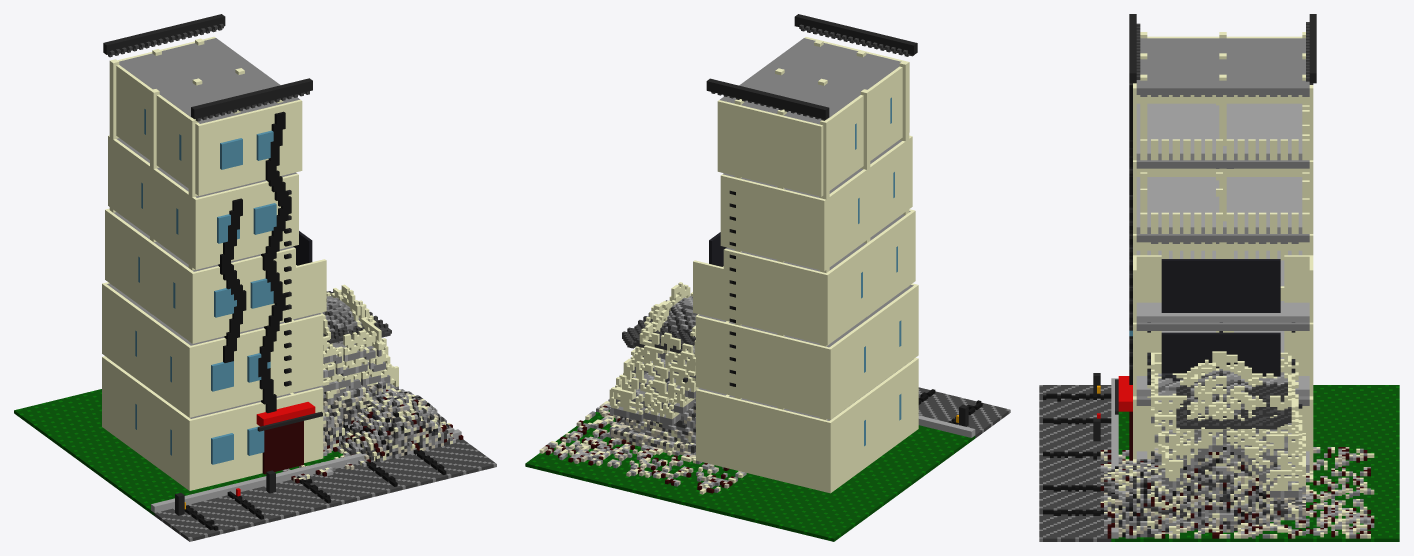
Rendered from yıkıkEV.obj.
3 views of the same model, side by side, from view 1: azimuth 30°, elevation 25°; view 2: azimuth 150°, elevation 25°; view 3: azimuth 270°, elevation 25° (orthographic). The views are drawn at different scales.
Size of the model in its own units: 10.1 by 12.2 by 10.
Materials: 1 (1 with a texture image).
